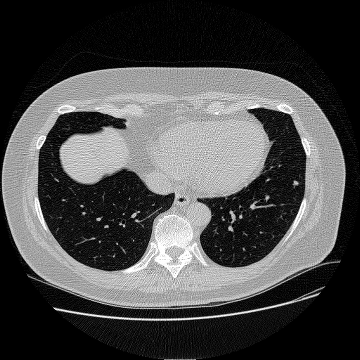nodule: (294, 181, 298, 185)
